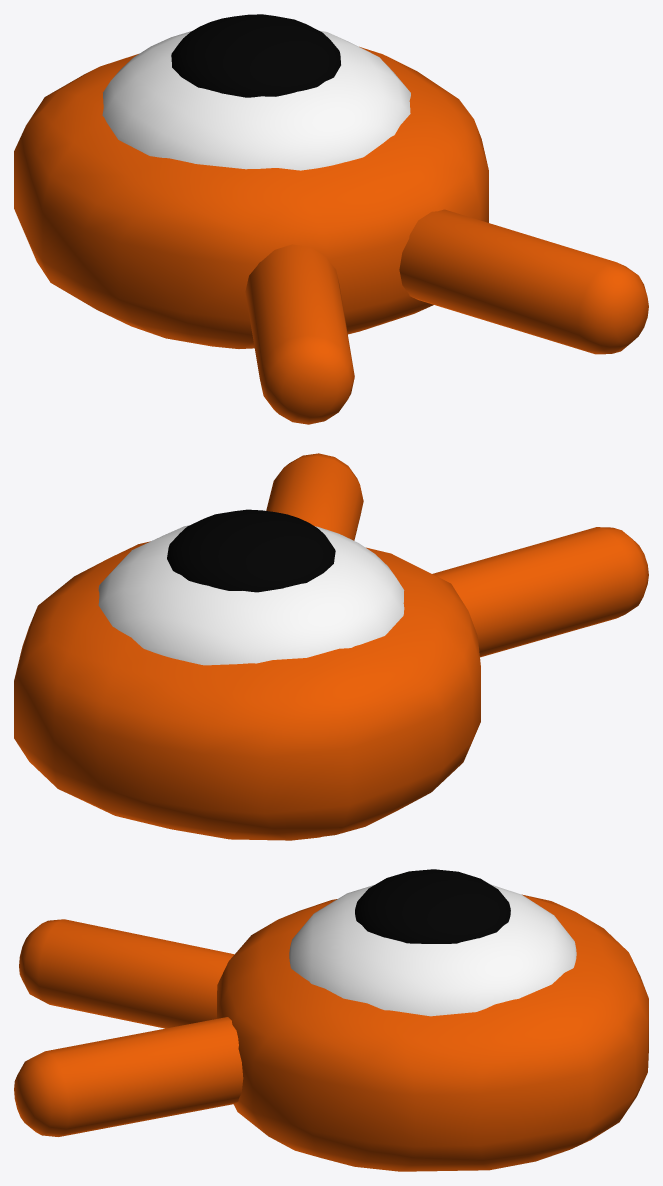
File: player.glb
3 renders of one model, top to bottom at view 1: azimuth 30°, elevation 25°; view 2: azimuth 150°, elevation 25°; view 3: azimuth 270°, elevation 25°, orthographic. The views are drawn at different scales.
Visible parts, largest first — view 1: Sphere.001; view 2: Sphere.001; view 3: Sphere.001.
Boxes of the visible parts, left/top/right/bottom form: Sphere.001: left=14, top=14, right=648, bottom=424; Sphere.001: left=14, top=453, right=648, bottom=840; Sphere.001: left=14, top=869, right=648, bottom=1171.
Bounding box in the file's own units: 2.02 × 1.22 × 3.
